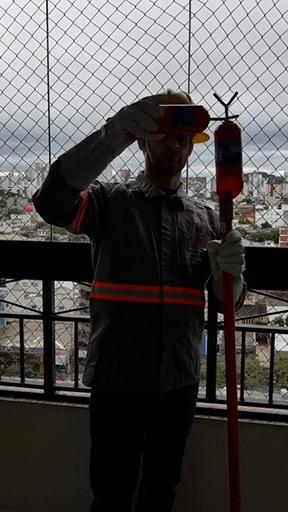Detector_Tensao_Contato: (211, 91, 244, 199), (139, 101, 240, 130)
Vara_Manobra: (216, 194, 244, 512)
